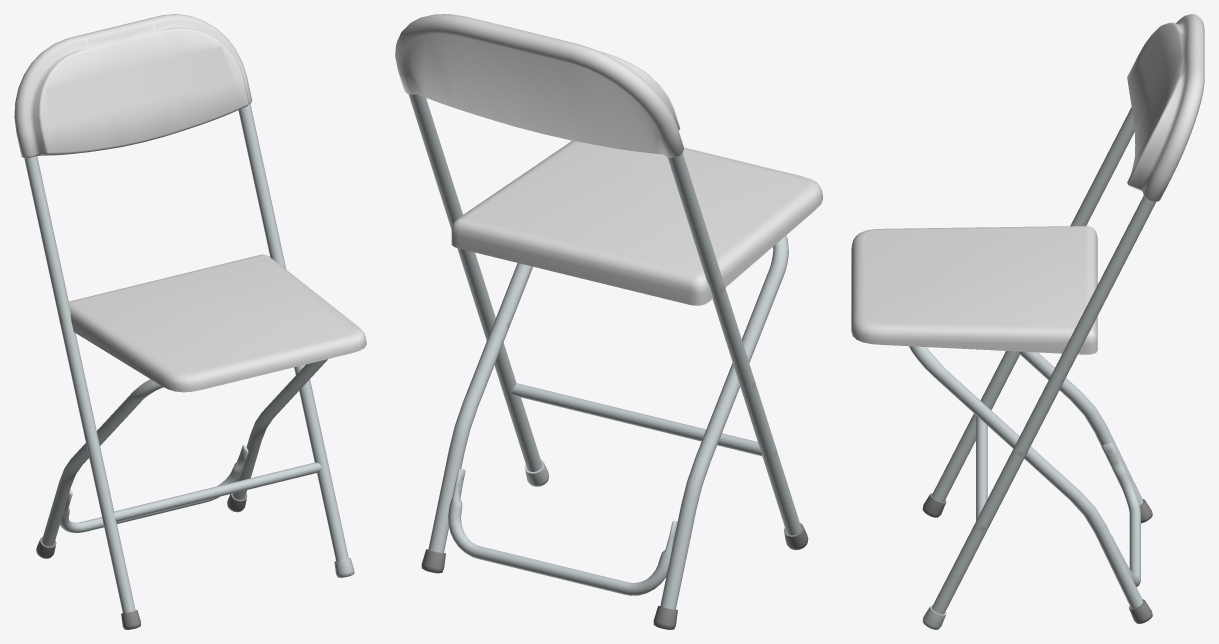
File: EventChair05.FBX
3 renders of one model, left to right at view 1: azimuth 30°, elevation 25°; view 2: azimuth 150°, elevation 25°; view 3: azimuth 270°, elevation 25°, orthographic. The views are drawn at different scales.
Visible parts, largest first — view 1: EventChair05; view 2: EventChair05; view 3: EventChair05.
Boxes of the visible parts, x1,y1,x2,y2 form: EventChair05: [14, 14, 366, 629]; EventChair05: [395, 14, 822, 629]; EventChair05: [851, 14, 1204, 629].
Size of what is drawn, in the model's own units: 0.4454 by 0.9045 by 0.5506.
